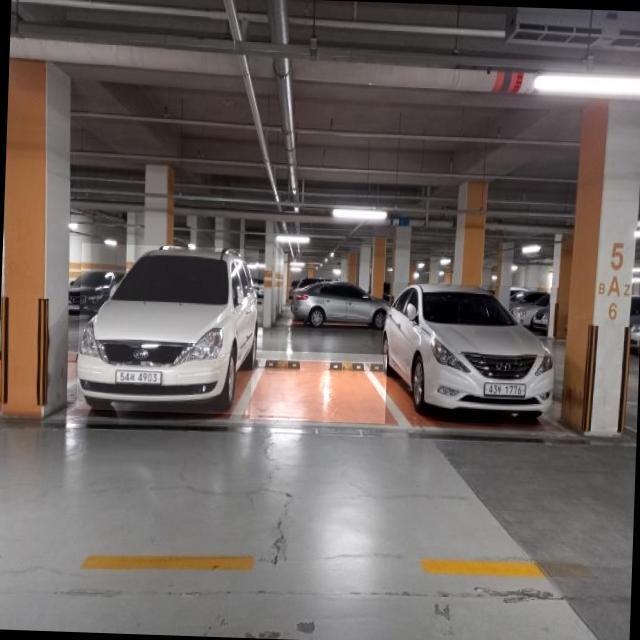empty: (250, 349, 386, 424)
occupied: (75, 243, 258, 415), (378, 281, 559, 425)
